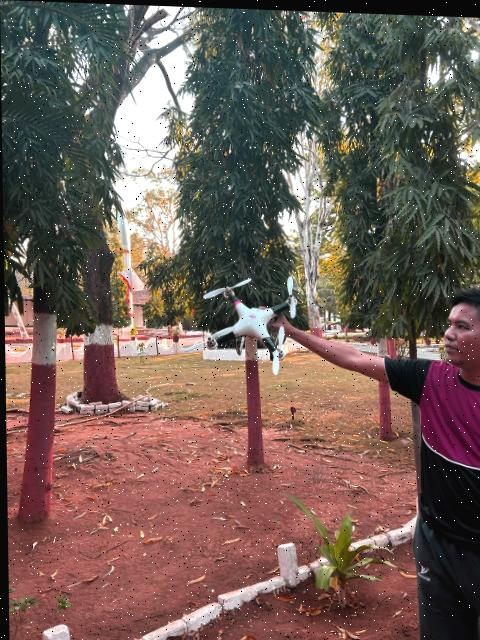drone: (178, 261, 319, 383)
